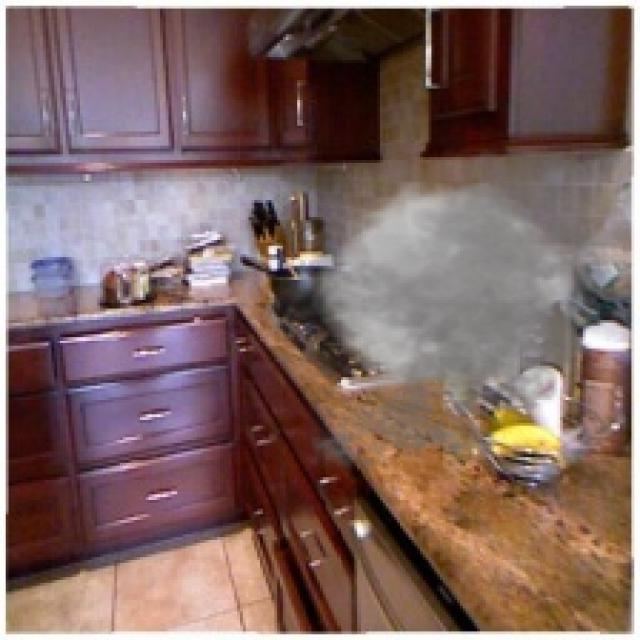Smoke: (245, 131, 638, 483)
